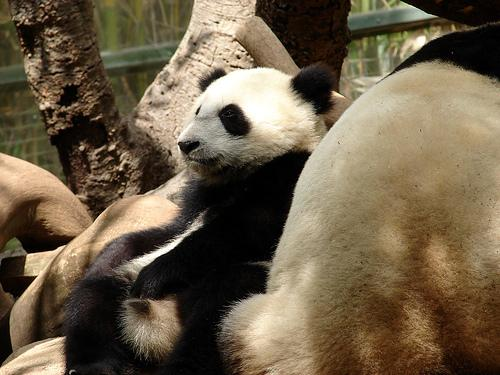panda: (219, 22, 499, 374), (65, 62, 346, 374)
